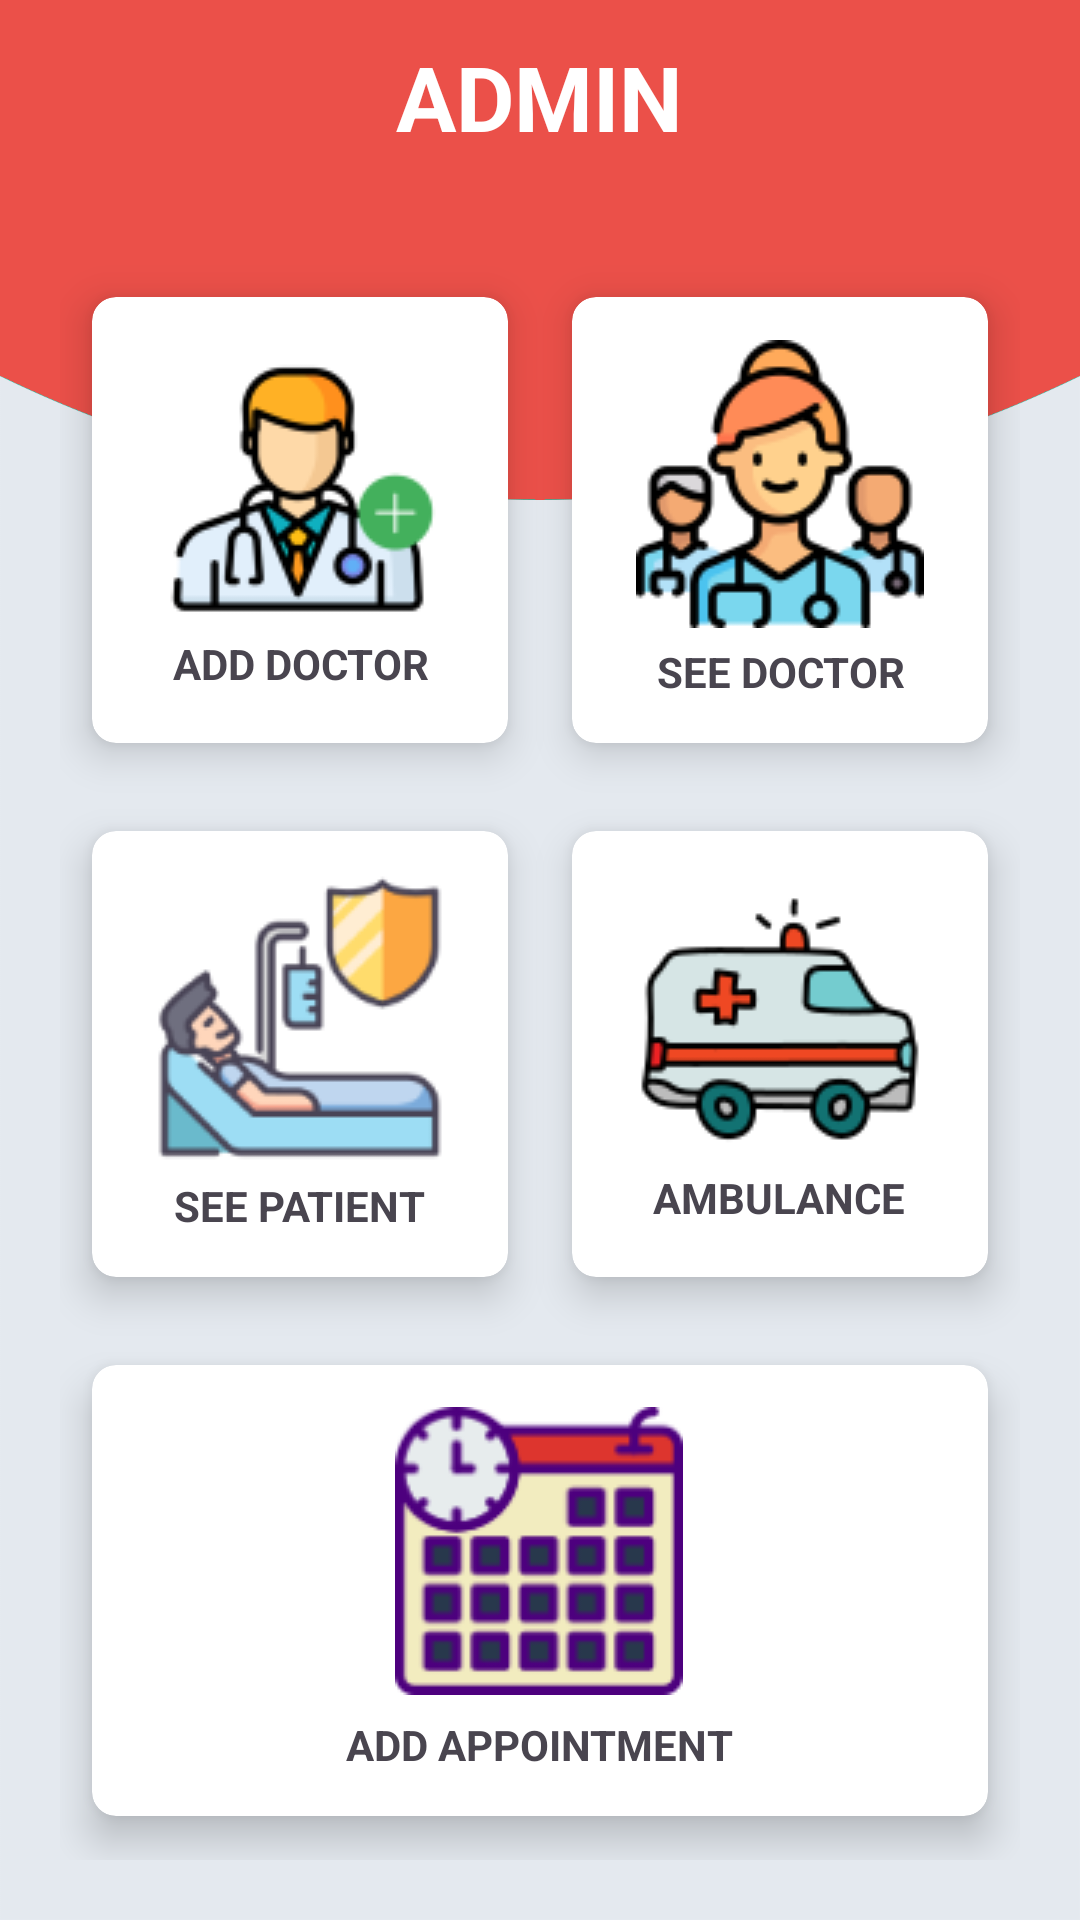

Screen size 1080 x 1920. Icon name, then its center in pixels as point (x, y):
health insurance: point (299, 1018)
medical team: point (780, 484)
